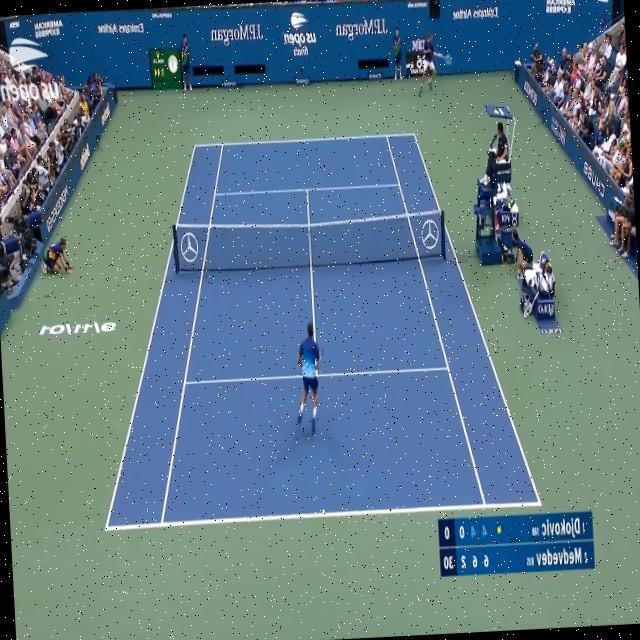Emirates: (473, 5, 499, 20), (118, 21, 144, 36)
